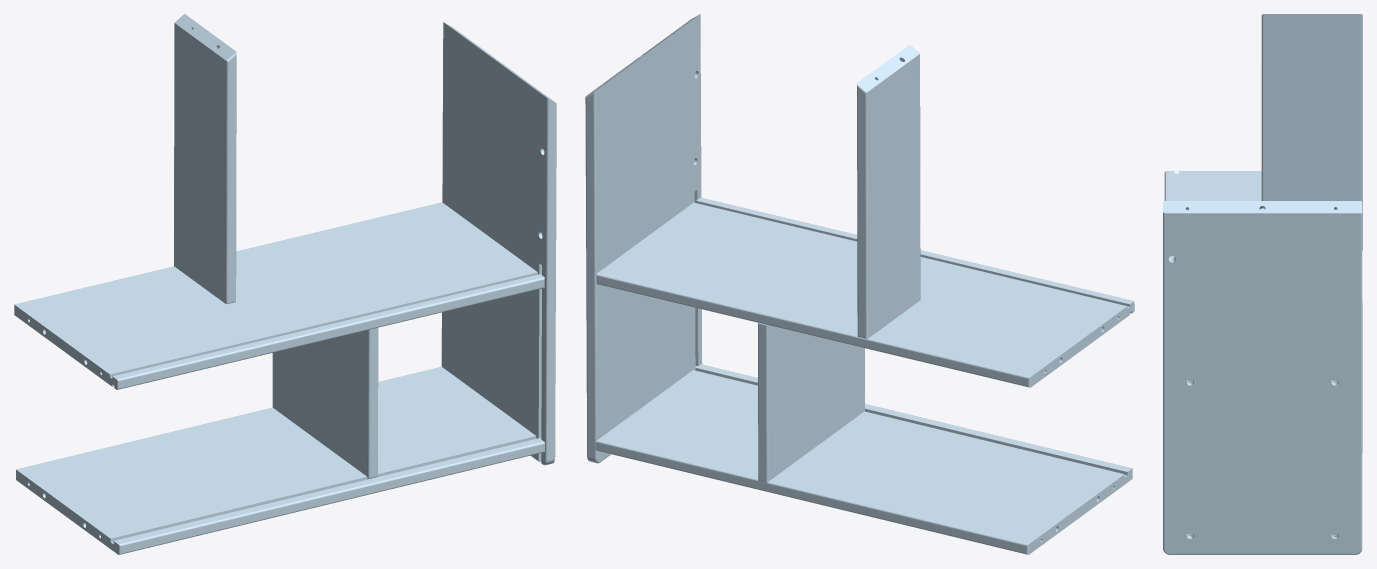
The model's file is step3.glb.
The picture shows the model from 3 angles, left to right: view 1: azimuth 30°, elevation 25°; view 2: azimuth 150°, elevation 25°; view 3: azimuth 270°, elevation 25°; orthographic projection. The views are drawn at different scales.
Visible parts, largest first — view 1: น็อตหัวตัด.004; view 2: น็อตหัวตัด.004; view 3: น็อตหัวตัด.004.
Boxes of the visible parts, x1,y1,x2,y2 form: น็อตหัวตัด.004: [14, 14, 556, 554]; น็อตหัวตัด.004: [585, 14, 1134, 554]; น็อตหัวตัด.004: [1163, 14, 1362, 554].
Size of what is drawn, in the model's own units: 3.16 by 3.03 by 1.31.
